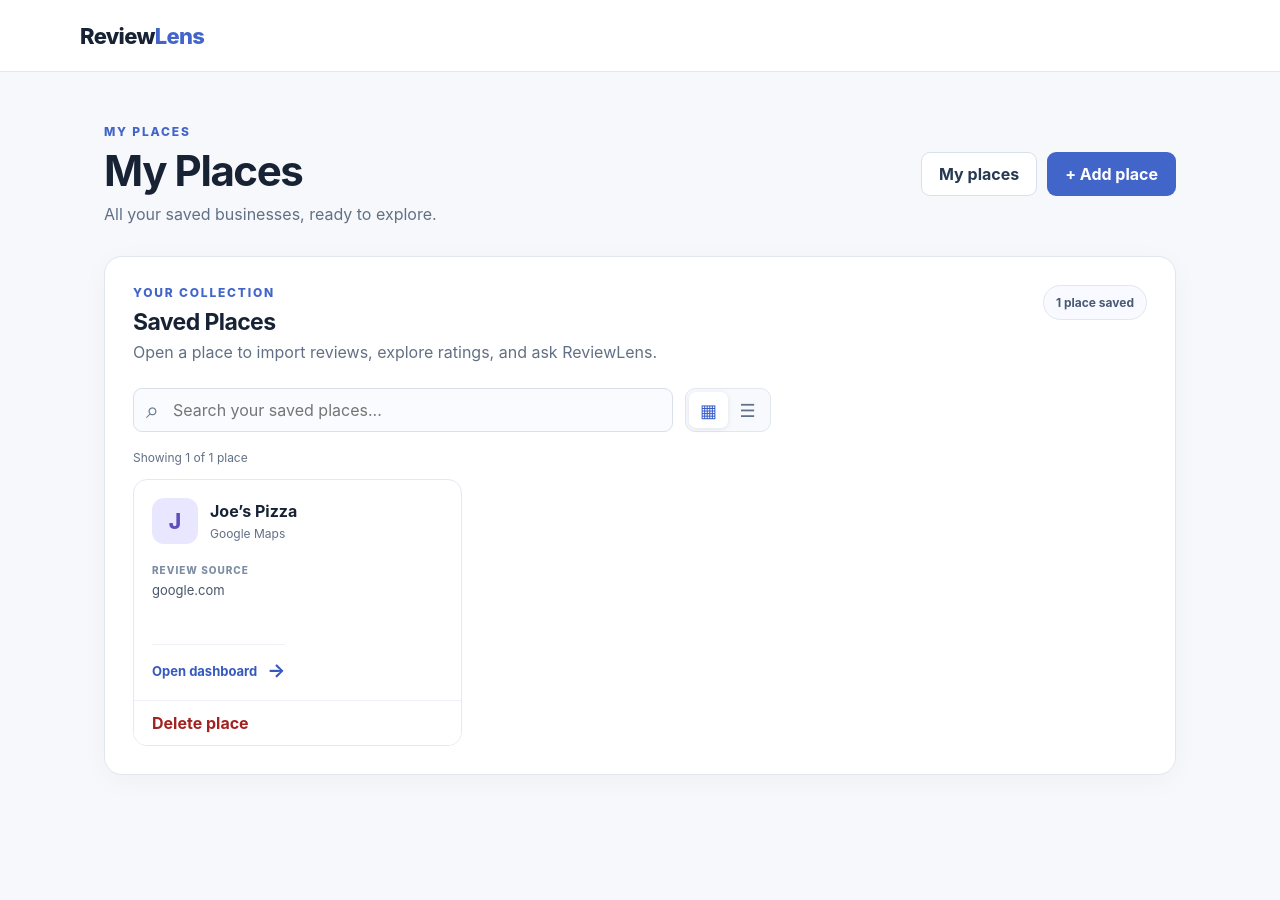
Test case: App › keeps a saved place if server-side deletion fails
The image size is (1280, 900).
Click the button with aria-label "Delete Joe’s Pizza" at (200, 723), box [134,700,461,745]
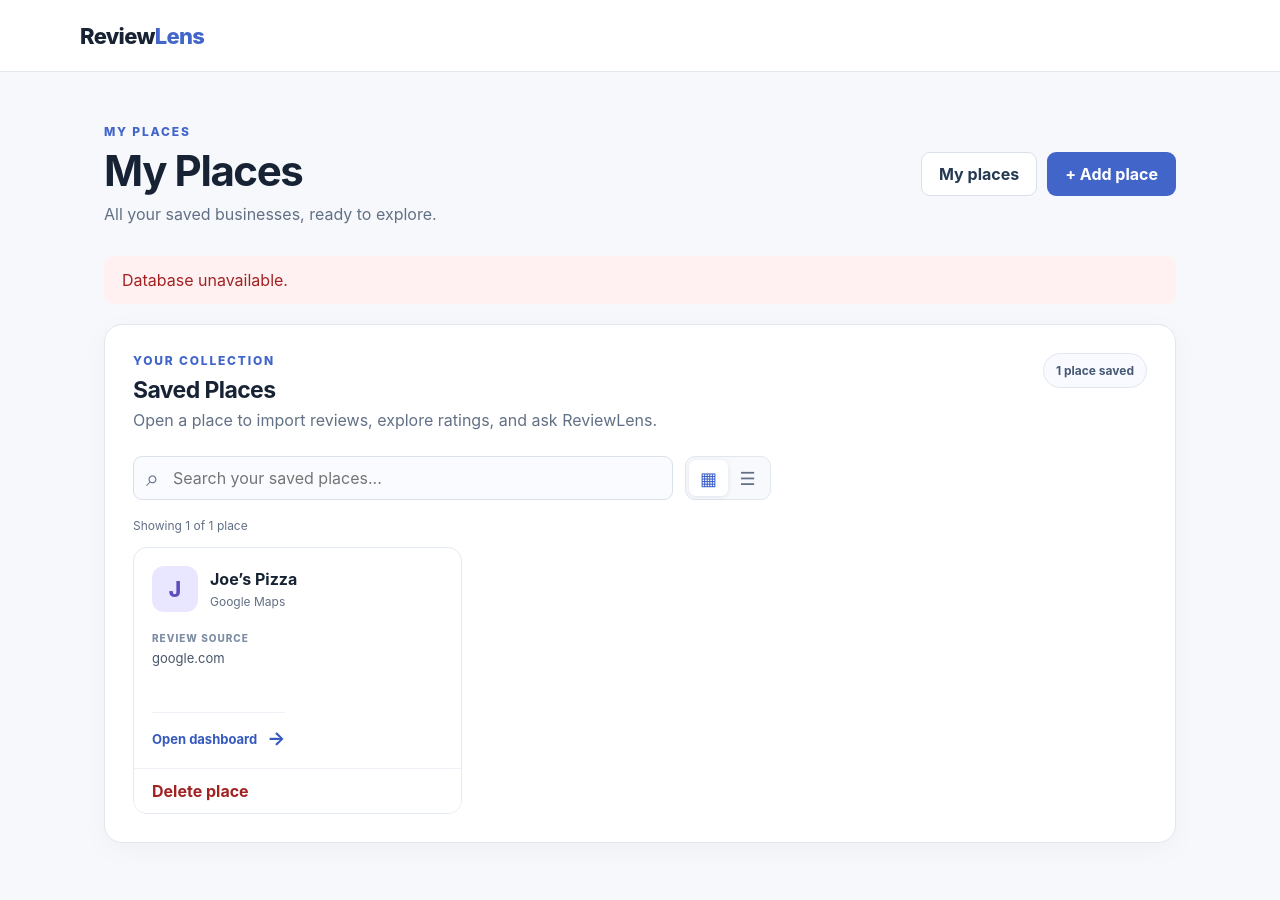
Expected: the button with aria-label "Open Joe’s Pizza dashboard" is shown, [134,548,461,768]
Expected: the message "Database unavailable." is shown, [104,256,1176,304]
